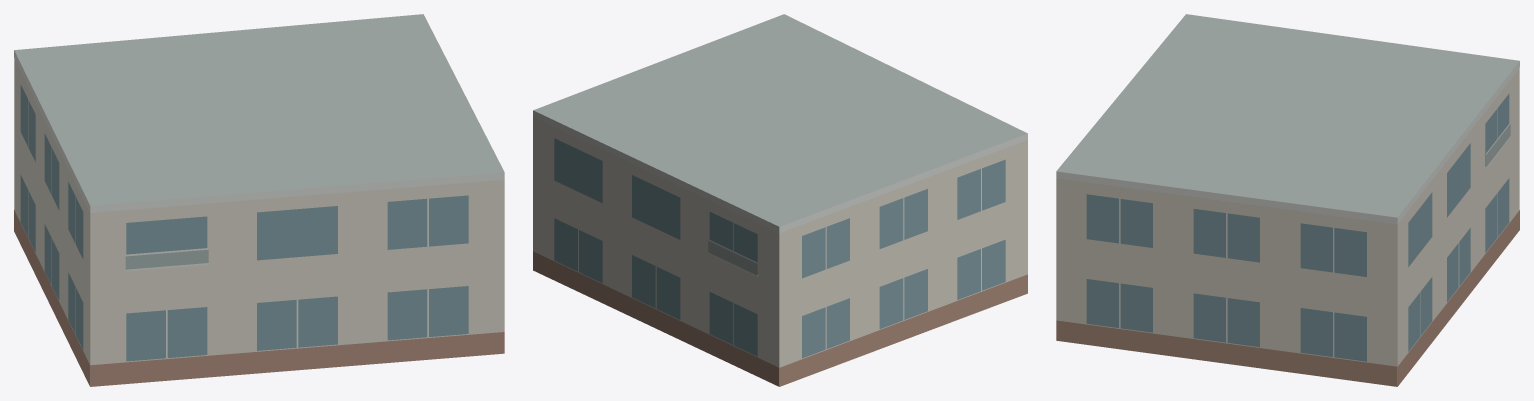
The model's file is survey-upis-33044668.glb.
The picture shows the model from 3 angles, left to right: view 1: azimuth 30°, elevation 25°; view 2: azimuth 150°, elevation 25°; view 3: azimuth 270°, elevation 25°; orthographic projection. The views are drawn at different scales.
Parts seen in each view (by area): view 1: survey-upis-33044668.tmp; view 2: survey-upis-33044668.tmp; view 3: survey-upis-33044668.tmp.
Boxes of the visible parts, x1,y1,x2,y2 form: survey-upis-33044668.tmp: (14,14,504,386); survey-upis-33044668.tmp: (533,14,1027,386); survey-upis-33044668.tmp: (1056,14,1519,386).
Size of the model in its own units: 15.75 by 6.1 by 15.15.
